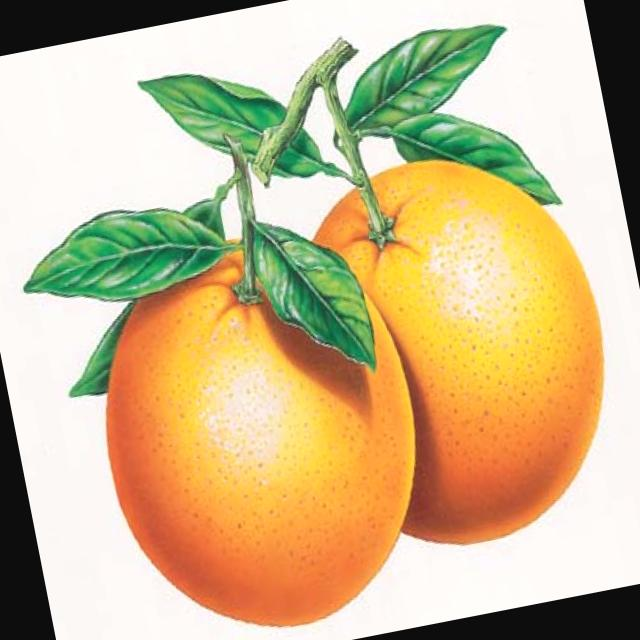orange: (63, 195, 458, 640), (282, 130, 640, 592)
